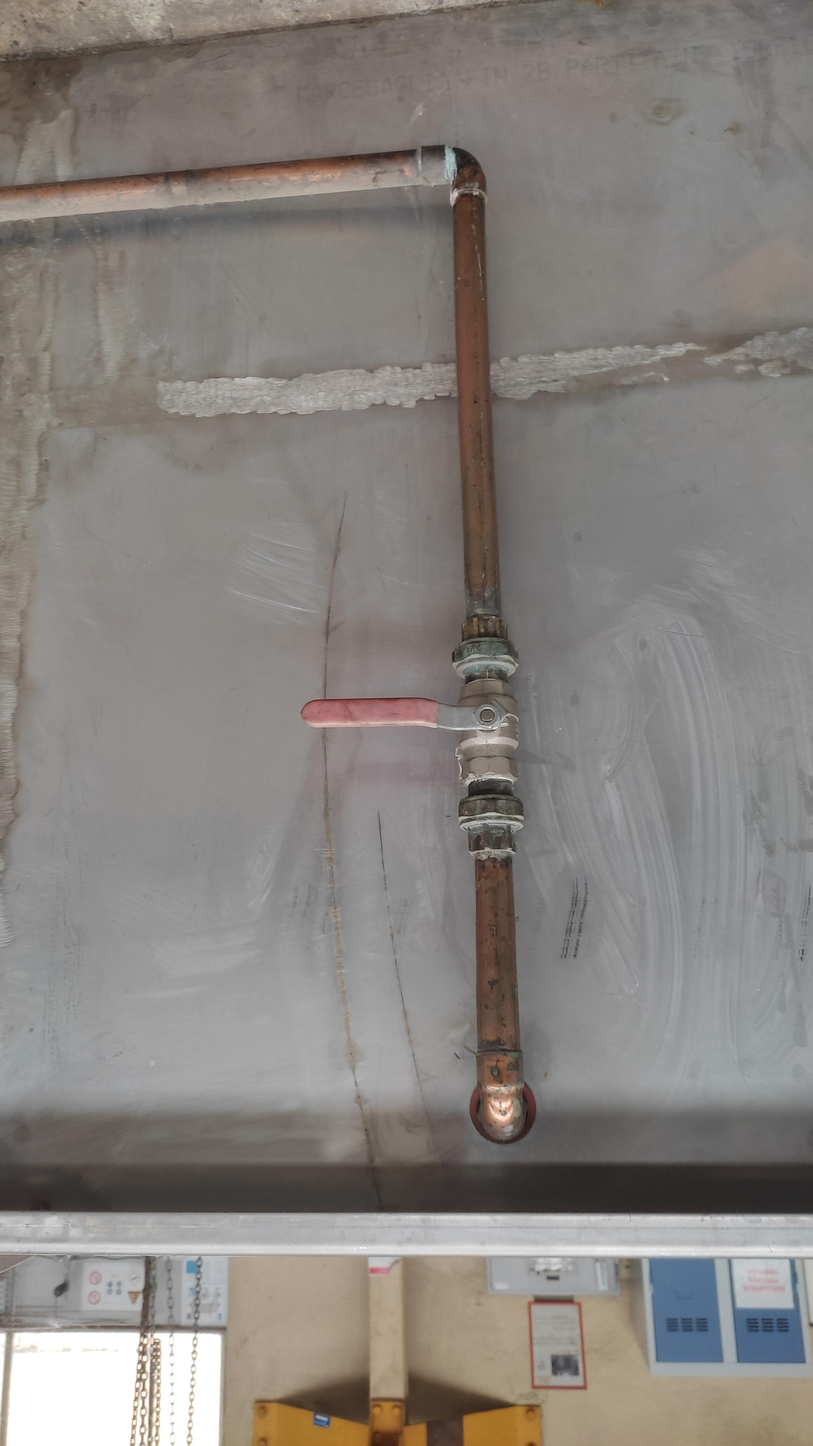closed valve: (298, 675, 523, 785)
